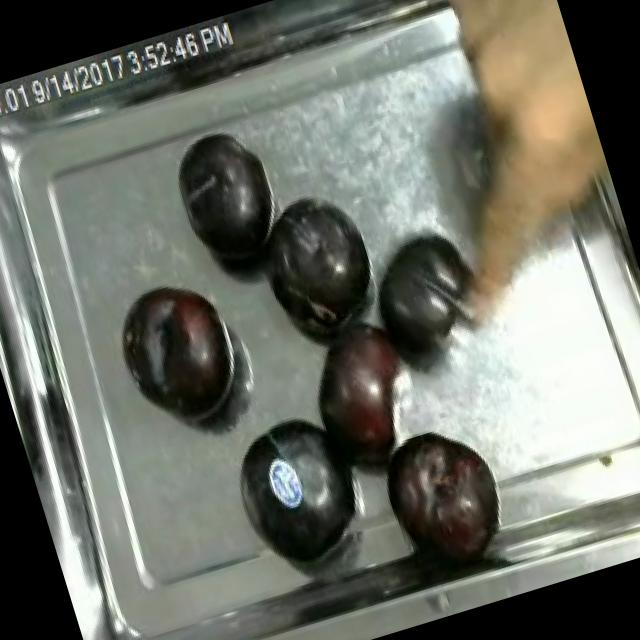Fruit: (213, 393, 380, 580), (284, 299, 442, 483), (347, 210, 500, 382), (376, 407, 518, 575), (114, 266, 252, 435), (248, 182, 386, 336), (162, 119, 289, 278)
